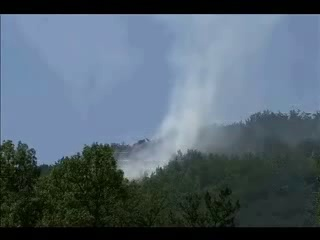smoke: (152, 13, 290, 155), (113, 125, 178, 183)
